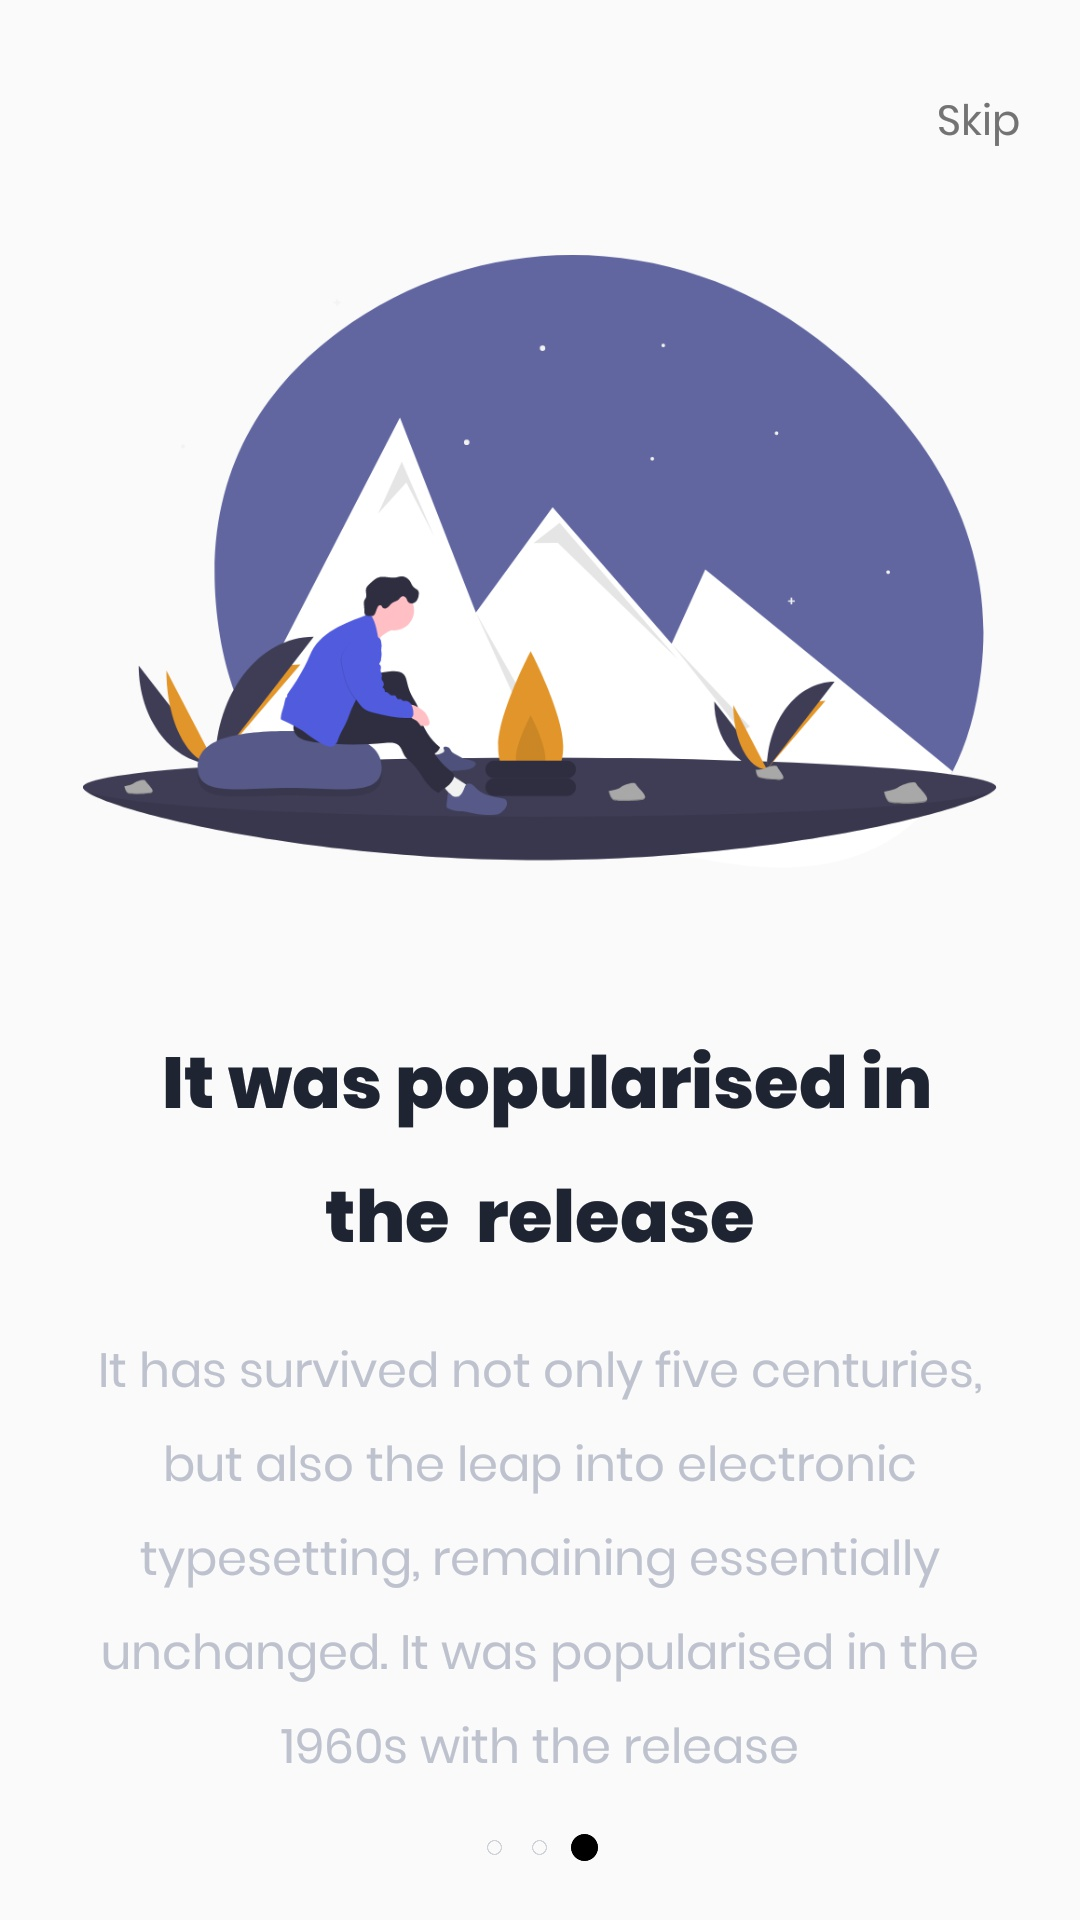Image: (83, 255, 996, 862)
PageIndicator: (485, 1832, 600, 1863)
Text: (102, 1348, 982, 1766), (165, 1048, 931, 1244), (938, 102, 1021, 148)
